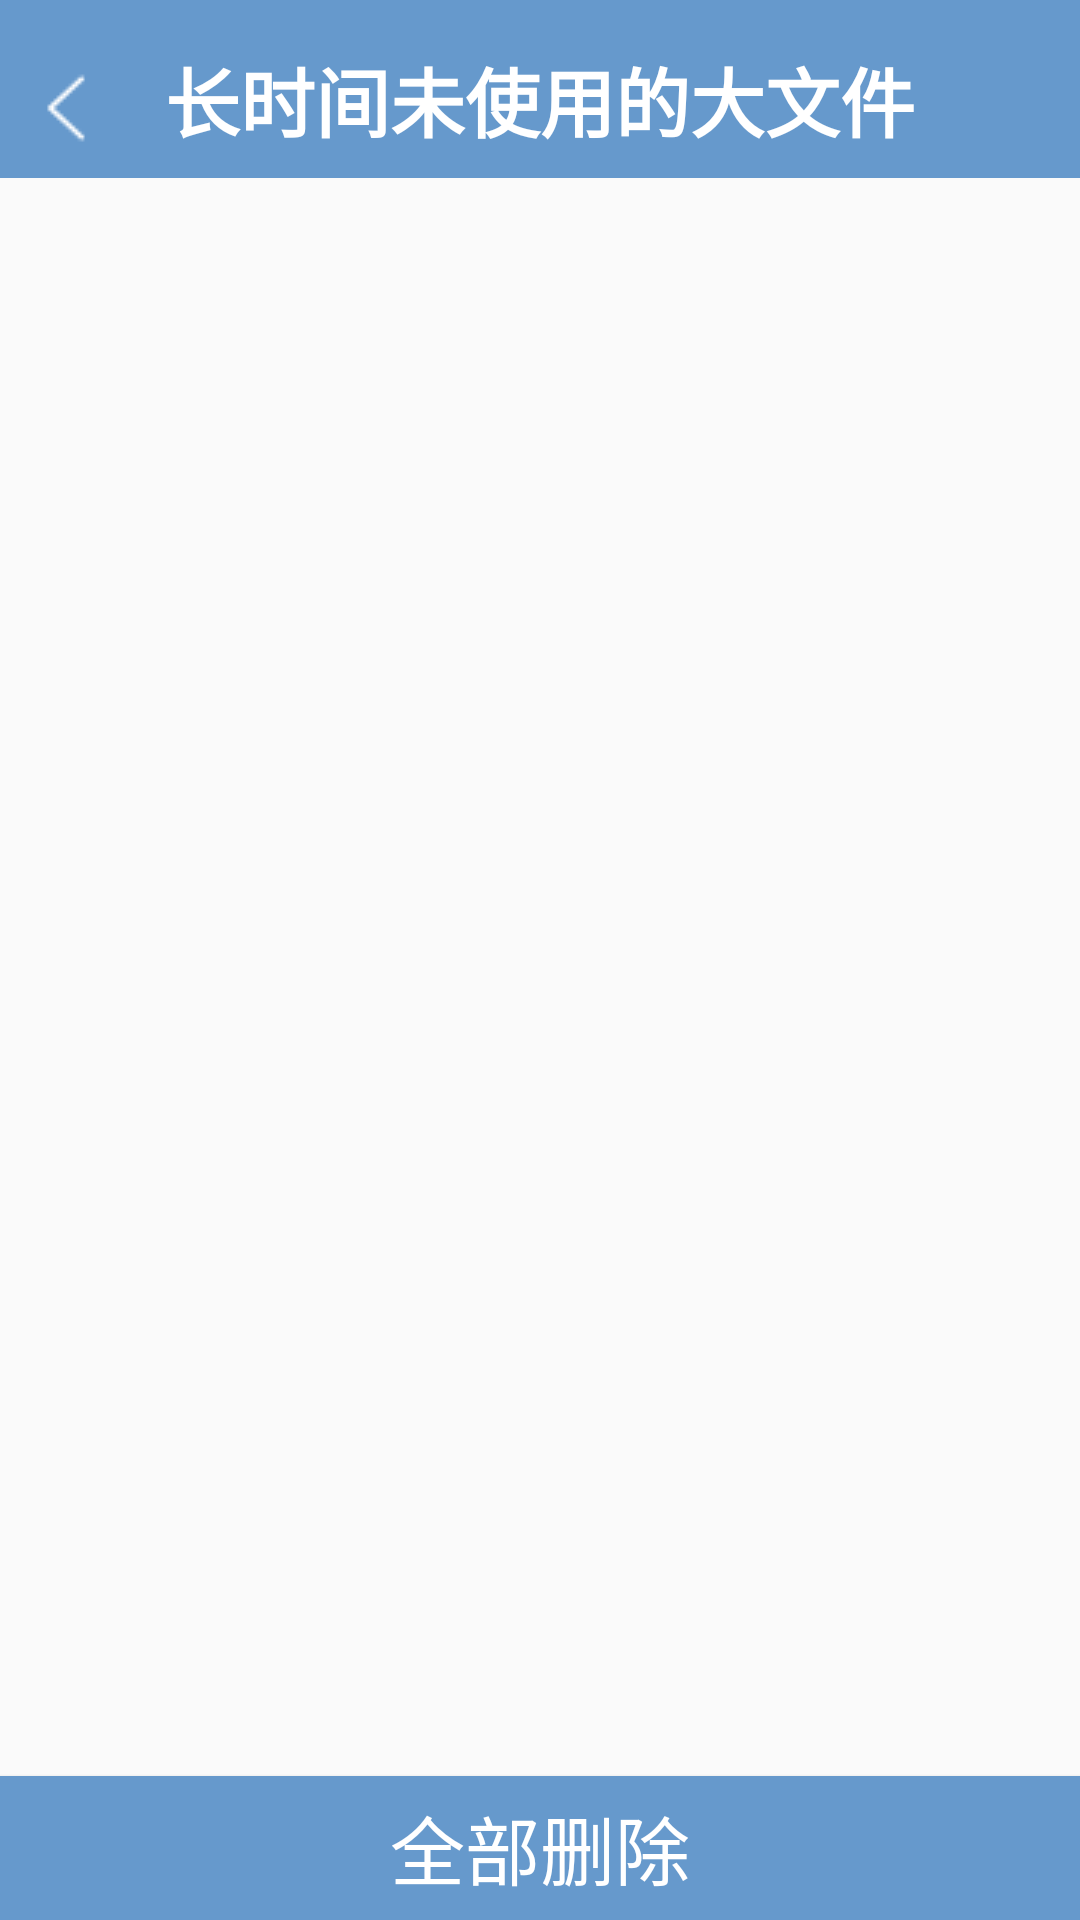

Icon click points for this 1080px×1920px phone screenshot, format (x=x, y=y):
go back: (x=66, y=108)
